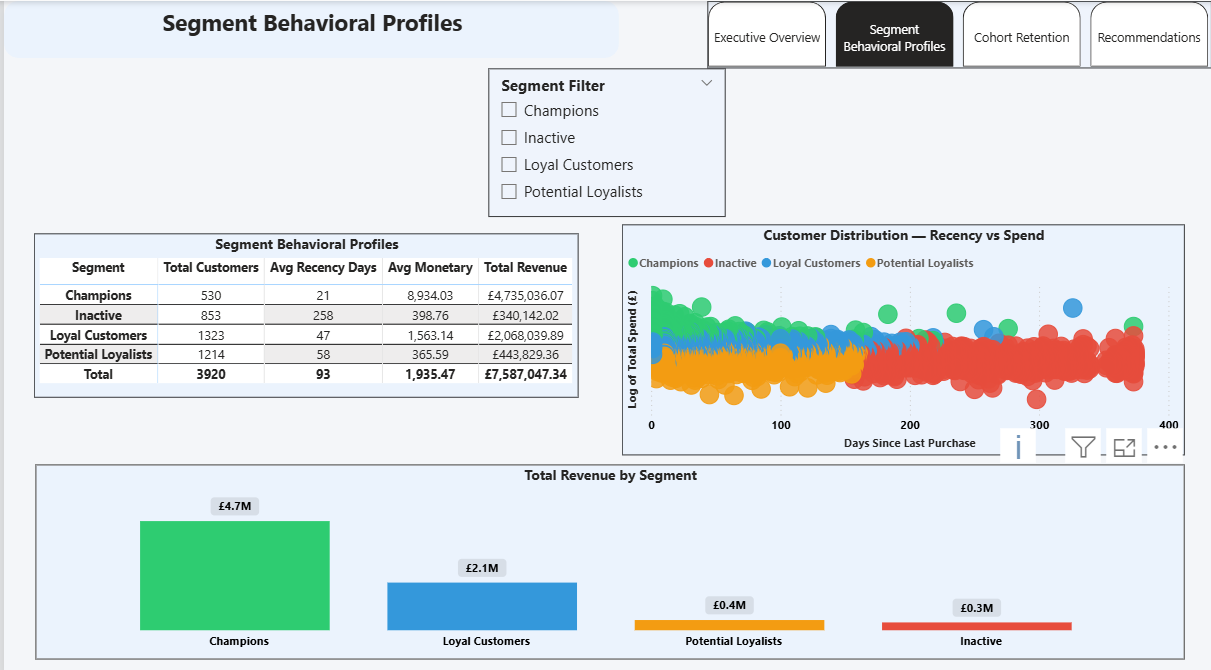

The dashboard page shown, as its layout file describes it:
{"tool":"powerbi","page":{"name":"Segment Behavioral Profiles","canvas":[1280,720],"ordinal":1},"visuals":[{"type":"shape","box":[0,0,652.2,60.4],"z":0},{"type":"textbox","box":[0,0,653.7,71.6],"z":1000},{"type":"pivotTable","title":"Segment Behavioral Profiles","fields":{"Rows":["customer_segments.kmeans_segment"],"Values":["Measure.Total Customers","Measure.Avg Recency Days","Measure.Avg Monetary","Measure.Total Revenue"]},"box":[32.4,247.1,577.2,174.2],"z":2000},{"type":"scatterChart","title":"Customer Distribution — Recency vs Spend","fields":{"X":["customer_segments.recency_days"],"Series":["customer_segments.kmeans_segment"],"Size":["CountNonNull(customer_segments.frequency)"],"Y":["customer_segments.log_monetary"]},"box":[655.3,237,596.5,245],"z":3000},{"type":"clusteredColumnChart","title":"Total Revenue by Segment","fields":{"Category":["customer_segments.kmeans_segment"],"Y":["Measure.Total Revenue"]},"box":[33.4,491.5,1218.4,206.8],"z":4000},{"type":"slicer","fields":{"Values":["customer_segments.kmeans_segment"]},"box":[514.3,71.6,251.3,157.5],"z":5000},{"type":"pageNavigator","box":[745.6,0,534.4,71.6],"z":5001}]}

Visuals, with their boxes in screenshot pixels (x1, y1, x2, y2), scaled from the page's 1280x720 canvas onto the 1211x670 screenshot:
shape: left=0, top=0, right=617, bottom=56
textbox: left=0, top=0, right=618, bottom=67
"Segment Behavioral Profiles" pivotTable: left=31, top=230, right=577, bottom=392
"Customer Distribution — Recency vs Spend" scatterChart: left=620, top=221, right=1184, bottom=449
"Total Revenue by Segment" clusteredColumnChart: left=32, top=457, right=1184, bottom=650
slicer - customer_segments.kmeans_segment: left=487, top=67, right=724, bottom=213
pageNavigator: left=705, top=0, right=1210, bottom=67
